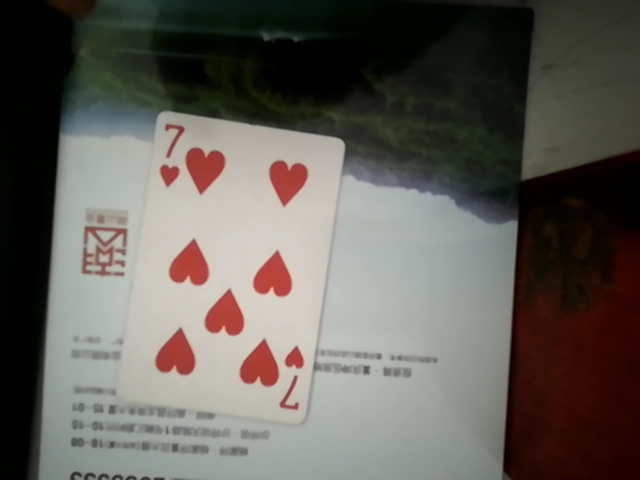hx 7: (114, 114, 345, 426)
